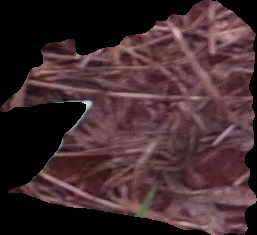soil: (2, 2, 254, 233)
